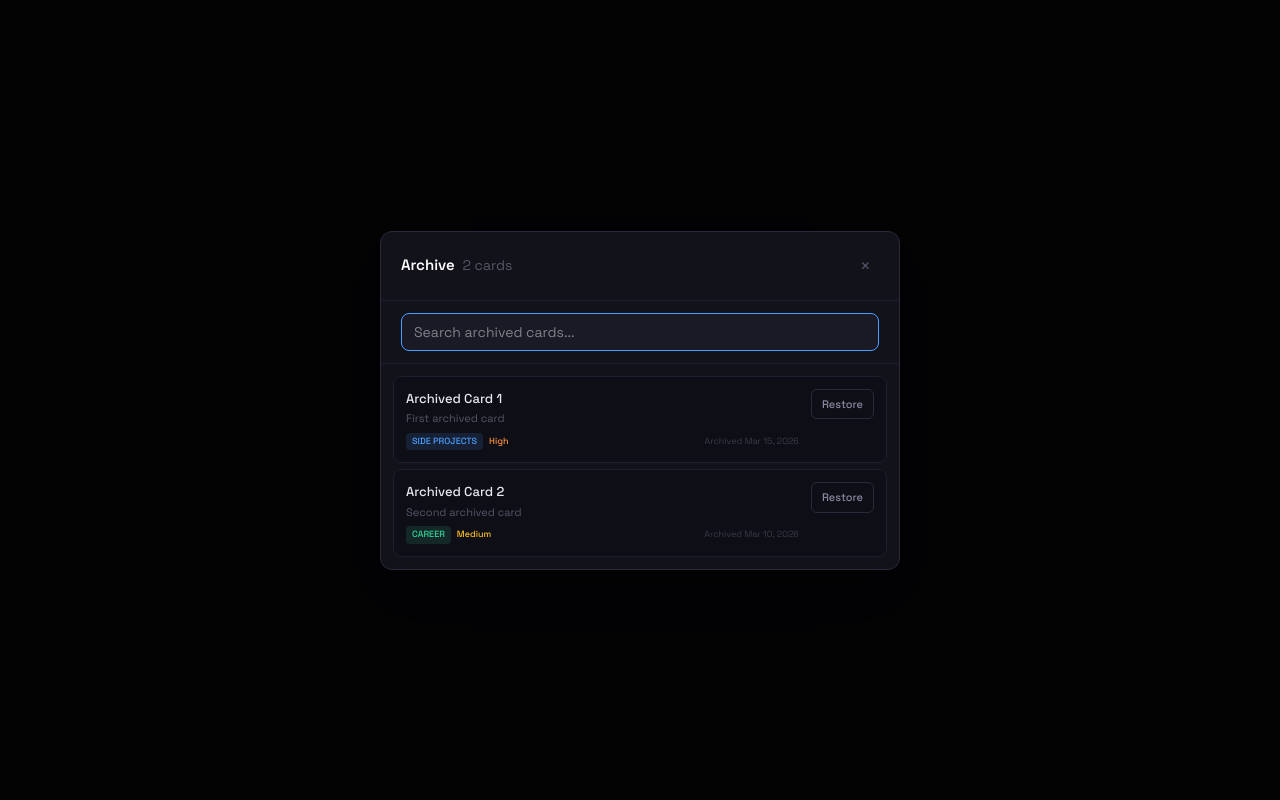
it: ArchivePanel › filters cards by search query
expect the text "Archived Card 1" is shown: met, box x1=406 y1=390 x2=502 y2=406
Type "Card 1" into the field with placeholder "Search archived cards..." at coordinates (640, 332), box x1=401 y1=312 x2=879 y2=350
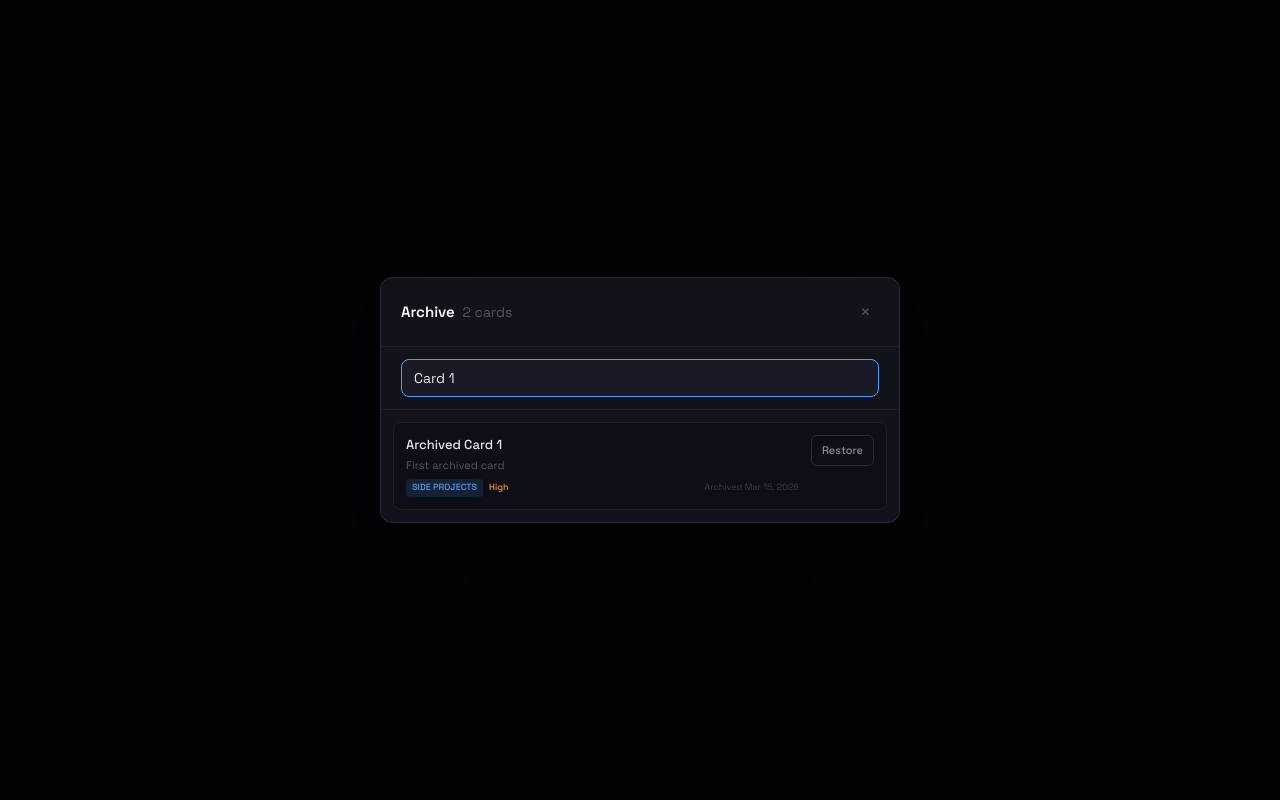
expect the text "Archived Card 1" is shown: met, box x1=406 y1=436 x2=502 y2=453
expect the text "Archived Card 2" is gone: met
